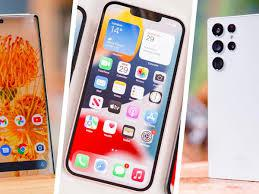Smartphone: (66, 0, 187, 178), (207, 12, 259, 179), (0, 9, 38, 192)
